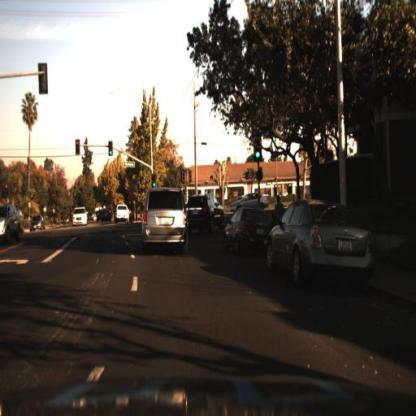car: (269, 200, 384, 287), (144, 181, 193, 258), (221, 211, 276, 252), (186, 195, 228, 235), (236, 192, 271, 211), (115, 201, 131, 229), (72, 205, 91, 228), (30, 213, 46, 236), (98, 206, 115, 227)
pedestrian: (274, 193, 285, 224)
trafficLight: (252, 130, 264, 166)
trafficLight-Green: (107, 139, 115, 160), (152, 174, 159, 194)
trafficLight-RedLeft: (76, 138, 84, 161)
